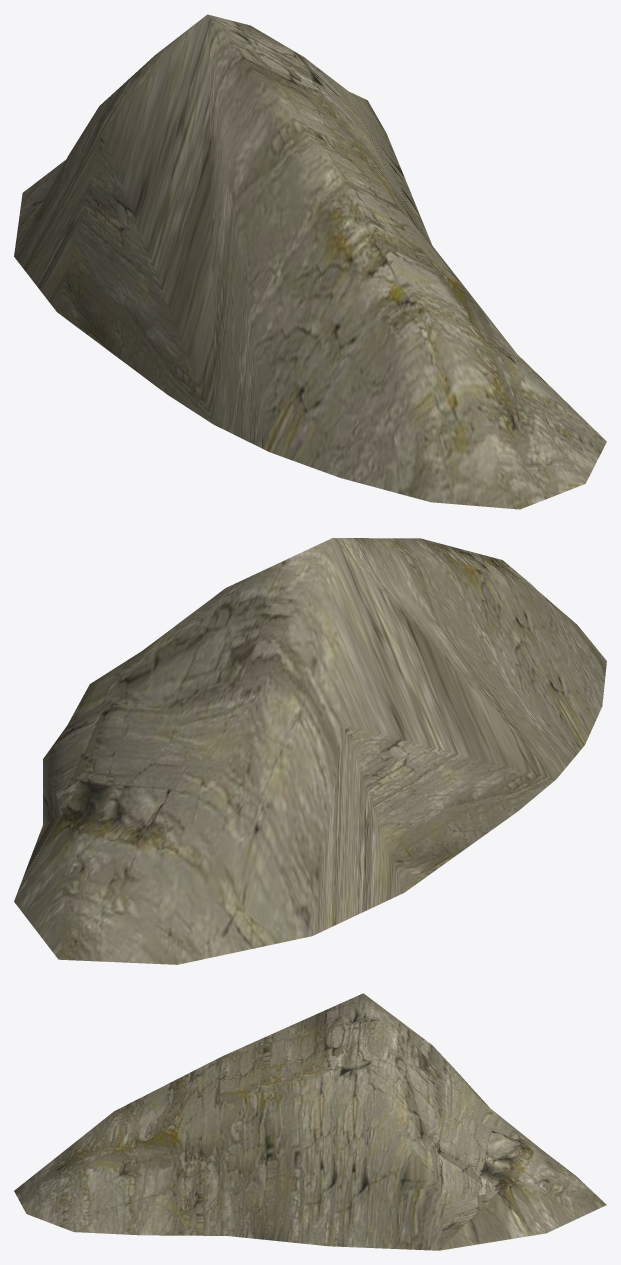
File: rock-ridge.glb
3 views of the same model, one above another, from view 1: azimuth 30°, elevation 25°; view 2: azimuth 150°, elevation 25°; view 3: azimuth 270°, elevation 25° (orthographic). The views are drawn at different scales.
Visible parts, largest first — view 1: rock-ridge; view 2: rock-ridge; view 3: rock-ridge.
Part boxes in pixels (x1,y1,x2,y2): rock-ridge: [14, 14, 606, 509]; rock-ridge: [14, 538, 606, 964]; rock-ridge: [14, 993, 606, 1250].
Size of the model in its own units: 3.65 by 3.05 by 8.74.
1 material, 1 textured.
